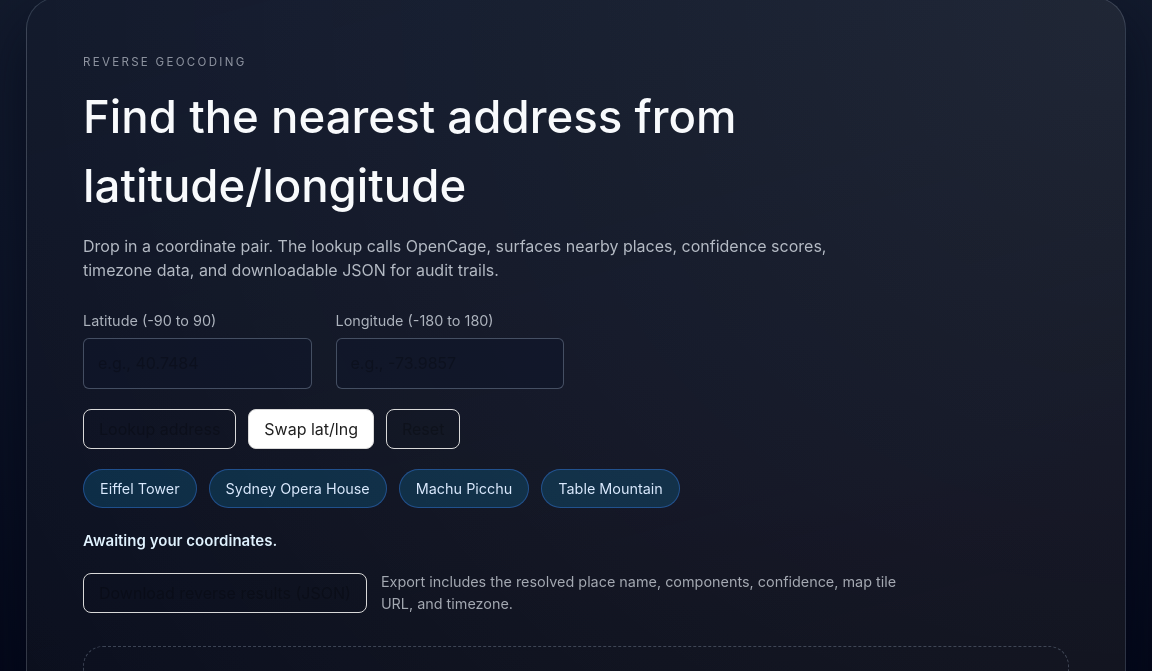
Test case: ReverseGeocodeDemo › validates longitude range separately (negative)
Step 1. Type "10" into the field labelled "Latitude (-90 to 90)" → {"x": 197, "y": 363}, box [83,338,312,389]
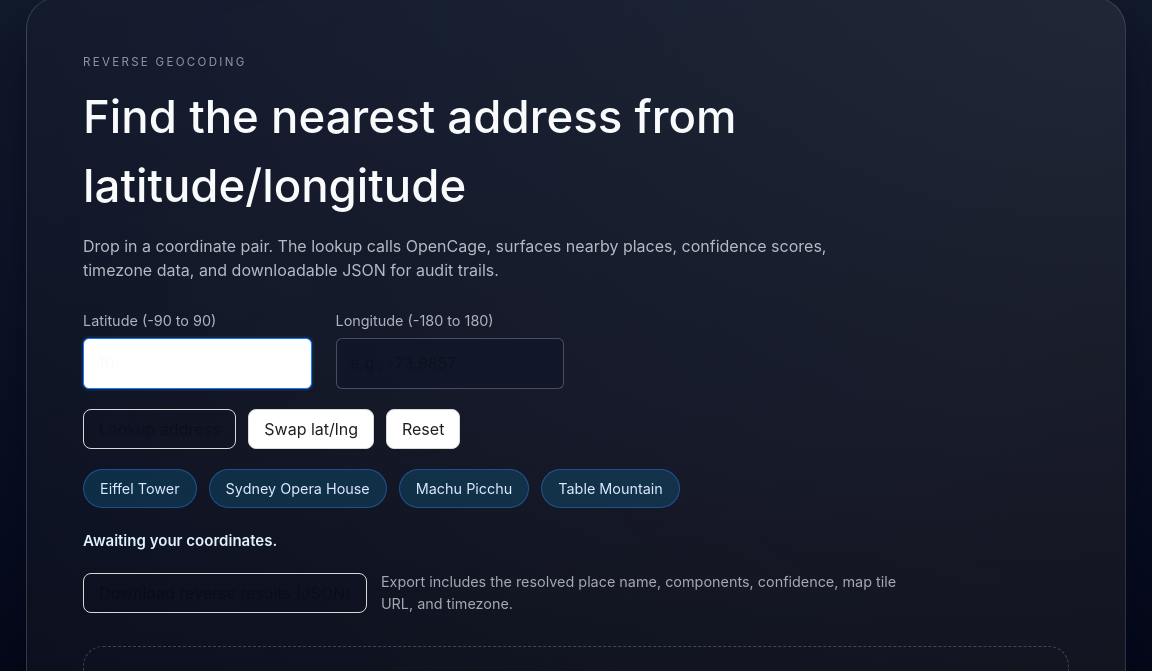
Step 2. Type "400" into the field labelled "Longitude (-180 to 180)" → {"x": 450, "y": 363}, box [336,338,564,389]
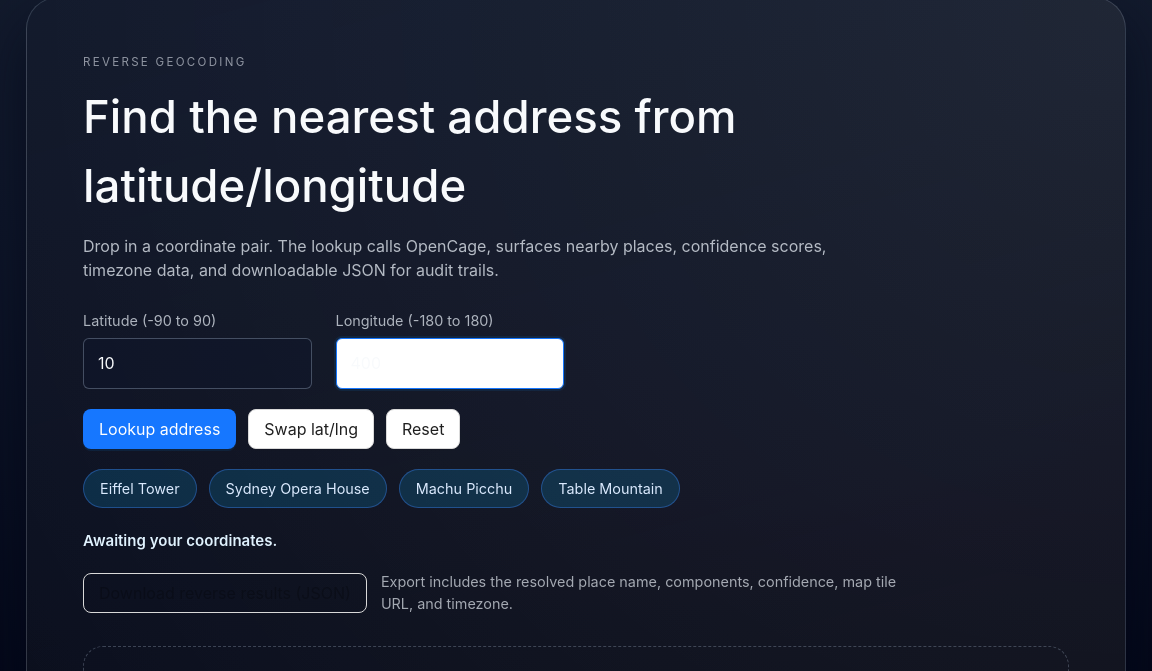
Step 3. Click the button "Lookup address" → {"x": 160, "y": 429}, box [83,409,236,449]
(page scrolled)
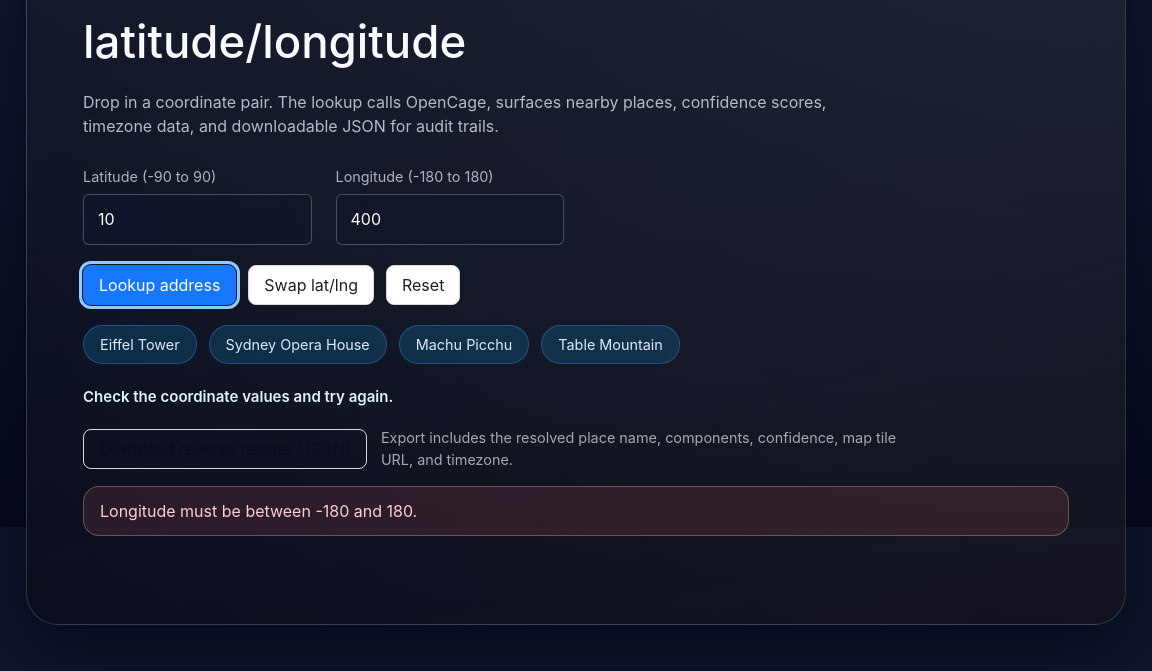
Result: the text "Longitude must be between -180 and 180." is shown at [83,486,1069,536]
